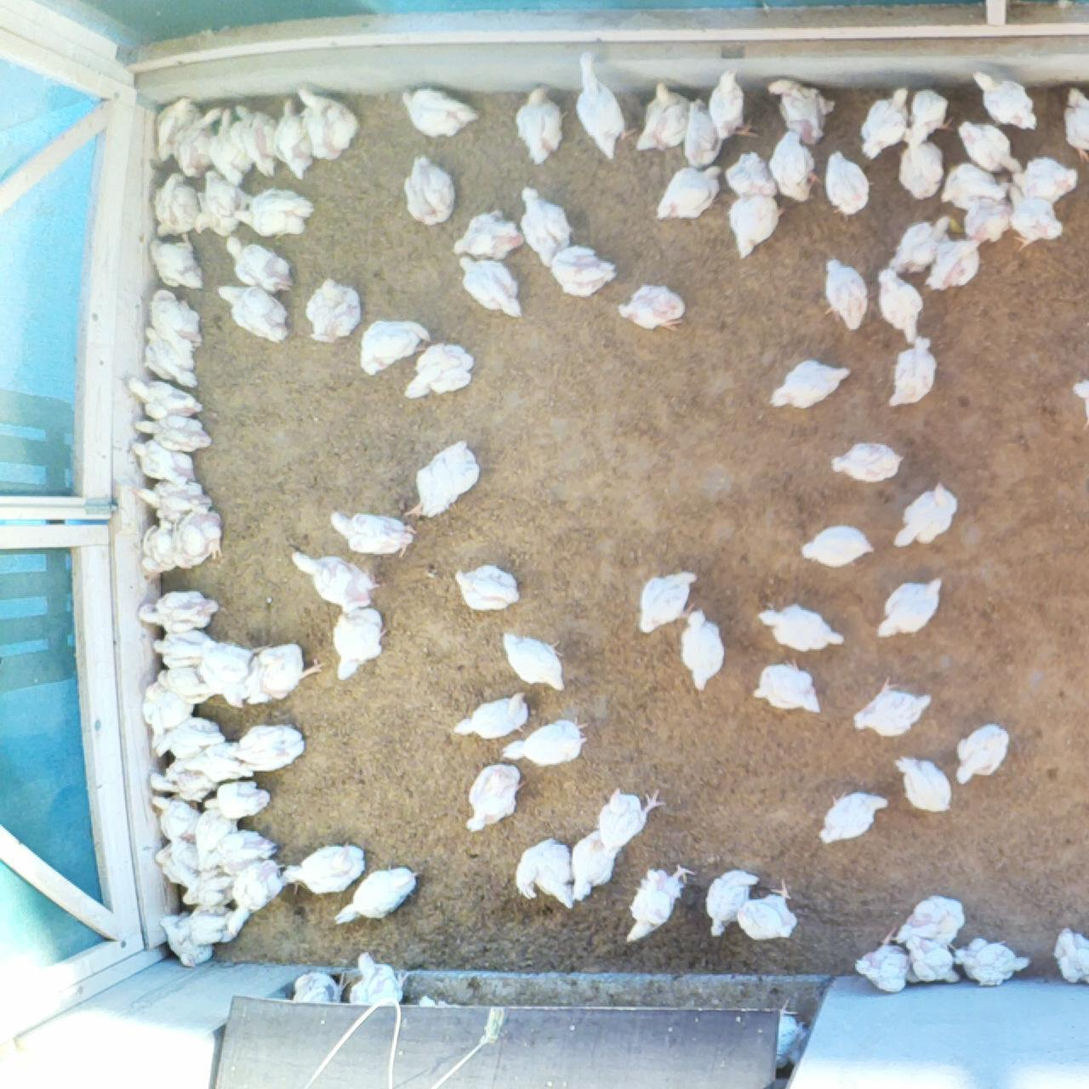chicken: (567, 48, 633, 166), (616, 856, 701, 946), (285, 541, 378, 617), (403, 437, 482, 526), (594, 780, 667, 865), (849, 673, 938, 742), (496, 626, 574, 704), (502, 713, 596, 775), (281, 838, 373, 901), (460, 757, 530, 838), (326, 502, 423, 560), (514, 180, 577, 269), (294, 79, 359, 164), (334, 862, 421, 924), (511, 80, 569, 172), (753, 599, 850, 654), (224, 856, 288, 939), (891, 476, 962, 550), (747, 655, 824, 723), (870, 574, 948, 641), (765, 74, 835, 148), (359, 312, 433, 382), (767, 353, 856, 411), (504, 832, 575, 903), (395, 80, 479, 140), (222, 227, 296, 295), (448, 685, 534, 743), (945, 932, 1032, 989), (636, 564, 701, 640), (329, 603, 389, 685), (675, 604, 730, 693), (815, 784, 891, 848), (401, 339, 479, 401), (216, 281, 293, 343), (883, 334, 944, 412), (401, 152, 462, 230), (1001, 178, 1068, 249), (449, 204, 531, 262), (737, 874, 802, 947), (854, 918, 914, 997), (966, 66, 1041, 129), (885, 215, 965, 274), (888, 749, 956, 818), (255, 631, 326, 697), (889, 123, 949, 201), (230, 184, 318, 237), (190, 166, 252, 241), (872, 262, 927, 345), (722, 189, 784, 262), (454, 255, 522, 321), (858, 78, 912, 161), (767, 128, 823, 208), (654, 164, 725, 227), (198, 636, 257, 711), (615, 279, 692, 336), (798, 520, 882, 572), (135, 324, 200, 391), (706, 866, 763, 942), (445, 561, 524, 615), (819, 147, 875, 223), (171, 102, 224, 182), (673, 91, 728, 168), (950, 120, 1023, 178), (567, 825, 618, 908), (271, 93, 317, 184), (631, 83, 685, 159), (150, 92, 204, 168), (814, 253, 865, 333), (208, 105, 257, 188), (124, 476, 214, 521), (892, 888, 965, 943), (125, 373, 209, 420), (825, 438, 909, 485), (954, 720, 1012, 788), (893, 78, 951, 146), (135, 588, 217, 636), (309, 274, 366, 343), (127, 432, 204, 483), (168, 507, 227, 573), (545, 241, 612, 299), (341, 950, 410, 1006), (714, 61, 761, 143), (150, 231, 208, 296), (231, 102, 279, 180), (1009, 150, 1080, 202), (130, 409, 215, 452), (227, 723, 309, 767), (199, 774, 281, 818), (150, 170, 202, 239), (179, 736, 253, 783), (925, 239, 986, 295), (937, 160, 1002, 212), (149, 290, 206, 348), (904, 934, 963, 990), (157, 714, 230, 759), (171, 904, 238, 952), (147, 624, 215, 669), (156, 911, 214, 963), (720, 149, 777, 201), (210, 828, 281, 868), (144, 760, 210, 802), (963, 198, 1016, 250), (137, 515, 176, 585), (177, 868, 239, 911), (1052, 919, 1089, 989), (191, 805, 241, 855), (154, 662, 213, 704), (153, 837, 202, 885), (135, 681, 181, 732), (291, 964, 350, 1003), (149, 795, 196, 841), (1063, 84, 1089, 162)
